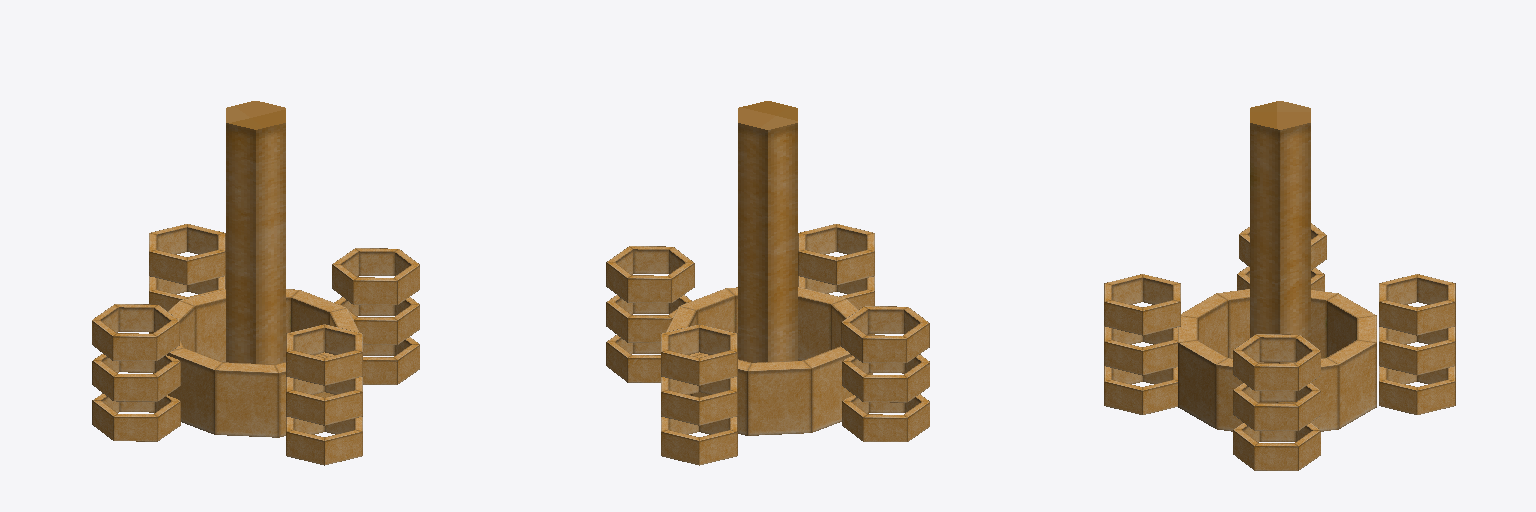
3 renders of one model, left to right at view 1: azimuth 30°, elevation 25°; view 2: azimuth 150°, elevation 25°; view 3: azimuth 270°, elevation 25°, orthographic.
Visible parts, largest first — view 1: cylinder1_sep22, cylinder1, cylinder1_sep36, cylinder1_sep31, cylinder1_sep30, cylinder1_sep35, cylinder1_sep34, cylinder1_sep32, cylinder1_sep38, cylinder1_sep28, cylinder1_sep29, cylinder1_sep27 (+1 smaller); view 2: cylinder1_sep22, cylinder1, cylinder1_sep31, cylinder1_sep36, cylinder1_sep35, cylinder1_sep30, cylinder1_sep32, cylinder1_sep34, cylinder1_sep37, cylinder1_sep33, cylinder1_sep29, cylinder1_sep27 (+1 smaller); view 3: cylinder1, cylinder1_sep22, cylinder1_sep31, cylinder1_sep35, cylinder1_sep30, cylinder1_sep29, cylinder1_sep27, cylinder1_sep37, cylinder1_sep33, cylinder1_sep38, cylinder1_sep28, cylinder1_sep36 (+1 smaller).
Part boxes in pixels (x1,y1,x2,y2): cylinder1_sep22: (226, 101, 285, 364); cylinder1: (153, 289, 359, 437); cylinder1_sep36: (92, 304, 179, 360); cylinder1_sep31: (332, 248, 419, 304); cylinder1_sep30: (286, 324, 362, 385); cylinder1_sep35: (149, 224, 225, 284); cylinder1_sep34: (92, 354, 180, 401); cylinder1_sep32: (92, 393, 180, 441); cylinder1_sep38: (286, 417, 362, 465); cylinder1_sep28: (286, 377, 362, 425); cylinder1_sep29: (334, 297, 419, 344); cylinder1_sep27: (363, 337, 419, 384); cylinder1_sep22: (738, 101, 797, 362); cylinder1: (666, 287, 872, 435); cylinder1_sep31: (606, 246, 694, 302); cylinder1_sep36: (841, 306, 929, 362); cylinder1_sep35: (661, 324, 737, 385); cylinder1_sep30: (798, 224, 874, 284); cylinder1_sep32: (842, 394, 929, 441); cylinder1_sep34: (842, 354, 929, 402); cylinder1_sep37: (661, 417, 737, 465); cylinder1_sep33: (661, 377, 737, 425); cylinder1_sep29: (606, 295, 691, 342); cylinder1_sep27: (606, 335, 660, 382); cylinder1: (1178, 289, 1376, 431); cylinder1_sep22: (1250, 101, 1310, 363); cylinder1_sep31: (1233, 334, 1320, 390); cylinder1_sep35: (1379, 274, 1455, 335); cylinder1_sep30: (1104, 274, 1180, 335); cylinder1_sep29: (1233, 383, 1320, 430); cylinder1_sep27: (1233, 423, 1320, 470); cylinder1_sep37: (1379, 366, 1455, 414); cylinder1_sep33: (1379, 326, 1455, 375); cylinder1_sep38: (1104, 366, 1177, 414); cylinder1_sep28: (1104, 326, 1177, 375); cylinder1_sep36: (1239, 223, 1326, 269).
Bounding box in the file's own units: 6.33 × 5.58 × 6.31.
Materials: 3 (1 with a texture image).